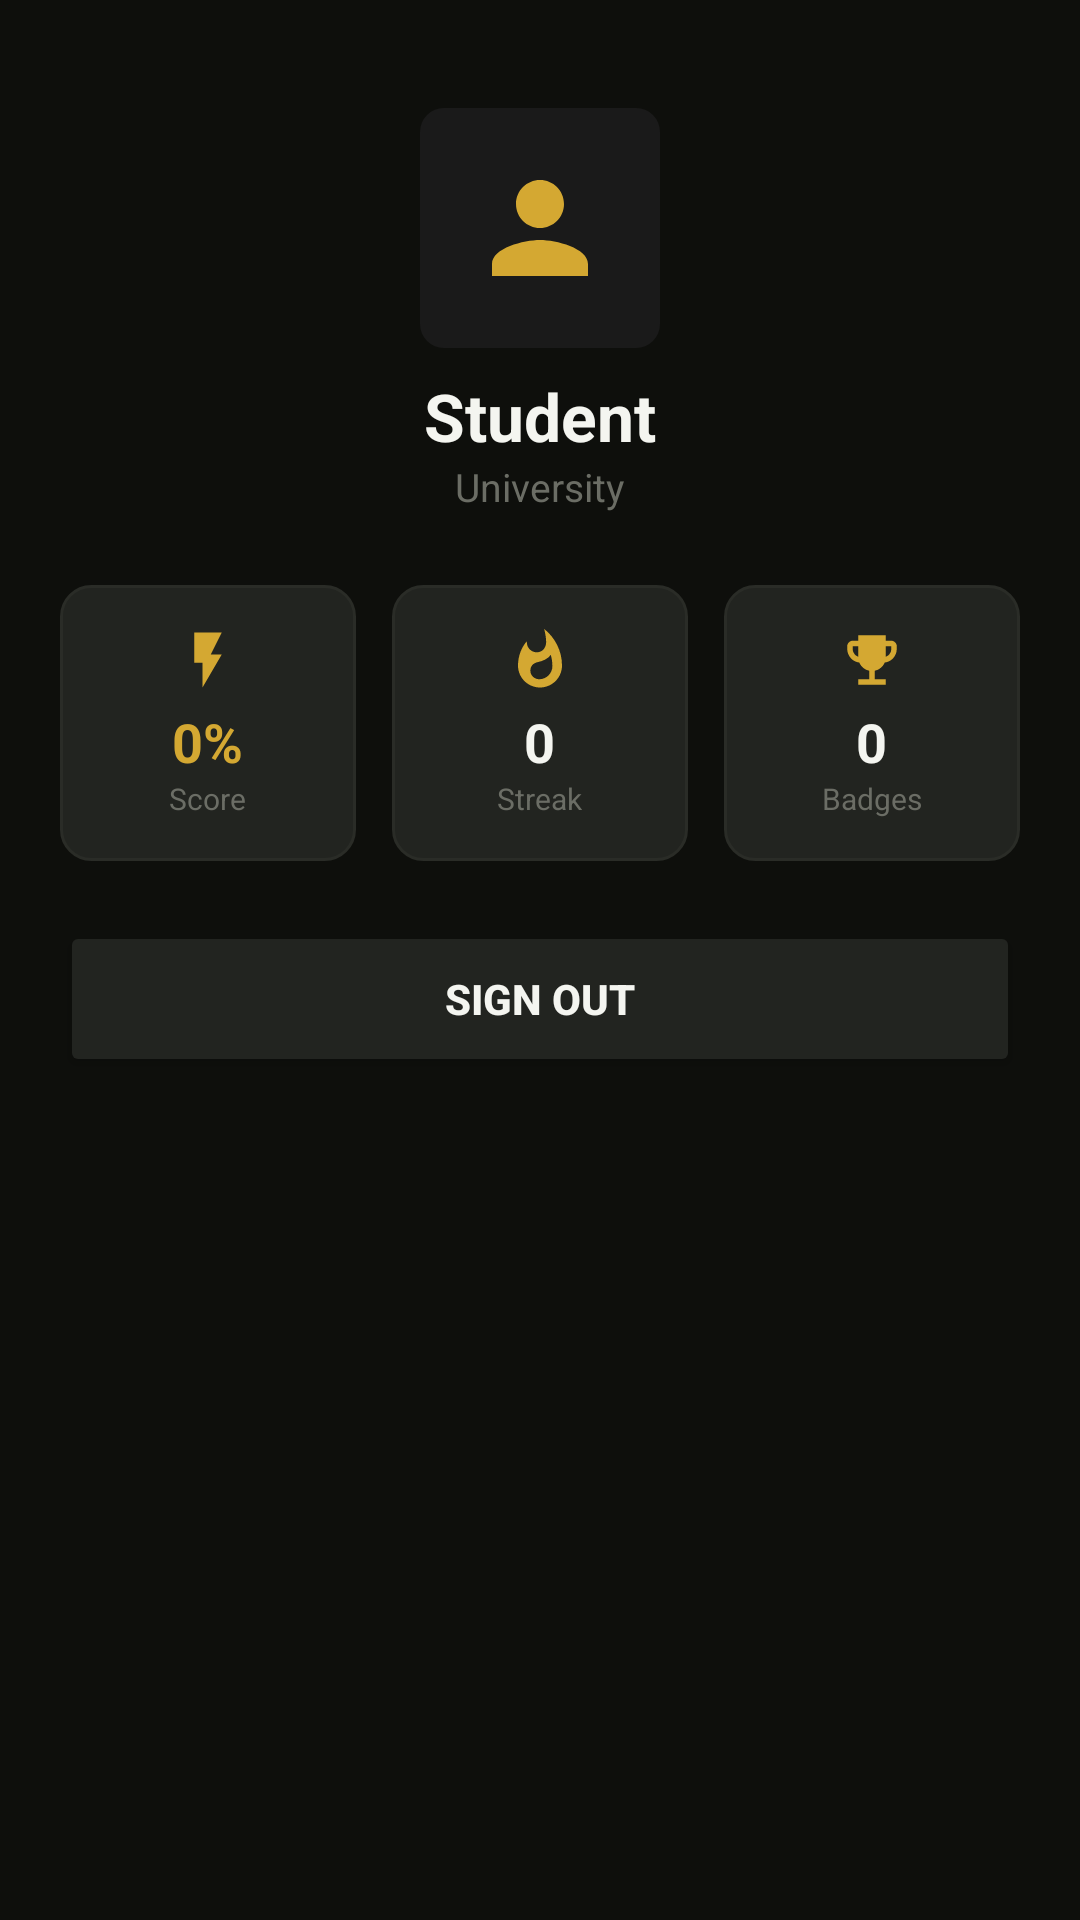

Icons on this 1080x1920 Android screen, each with its box as (x1,y1,x2,y2):
person: (492,180,588,276)
trophy: (847,635,897,685)
